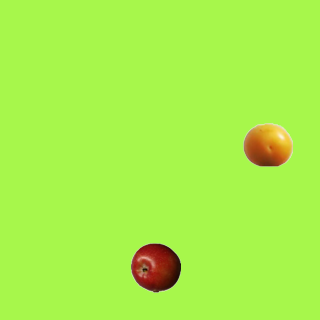Apple Braeburn: (130, 242, 180, 292)
Cherry Wax Yellow: (242, 119, 292, 169)
